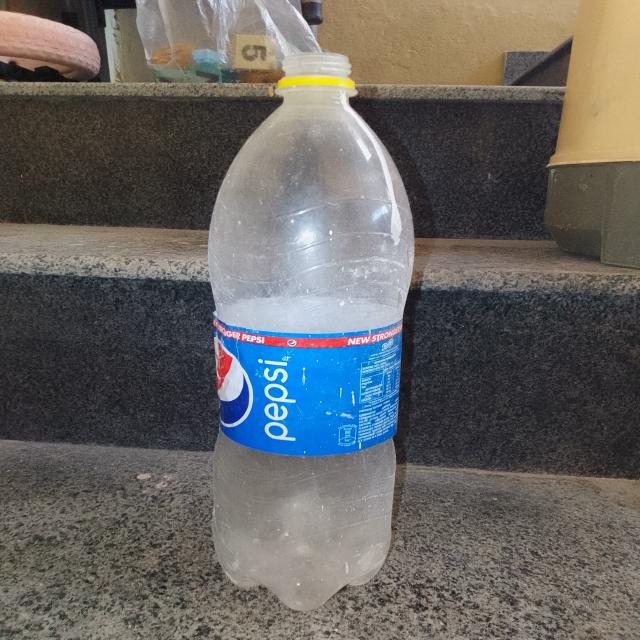bottle: (193, 40, 435, 630)
label: (209, 314, 411, 466)
